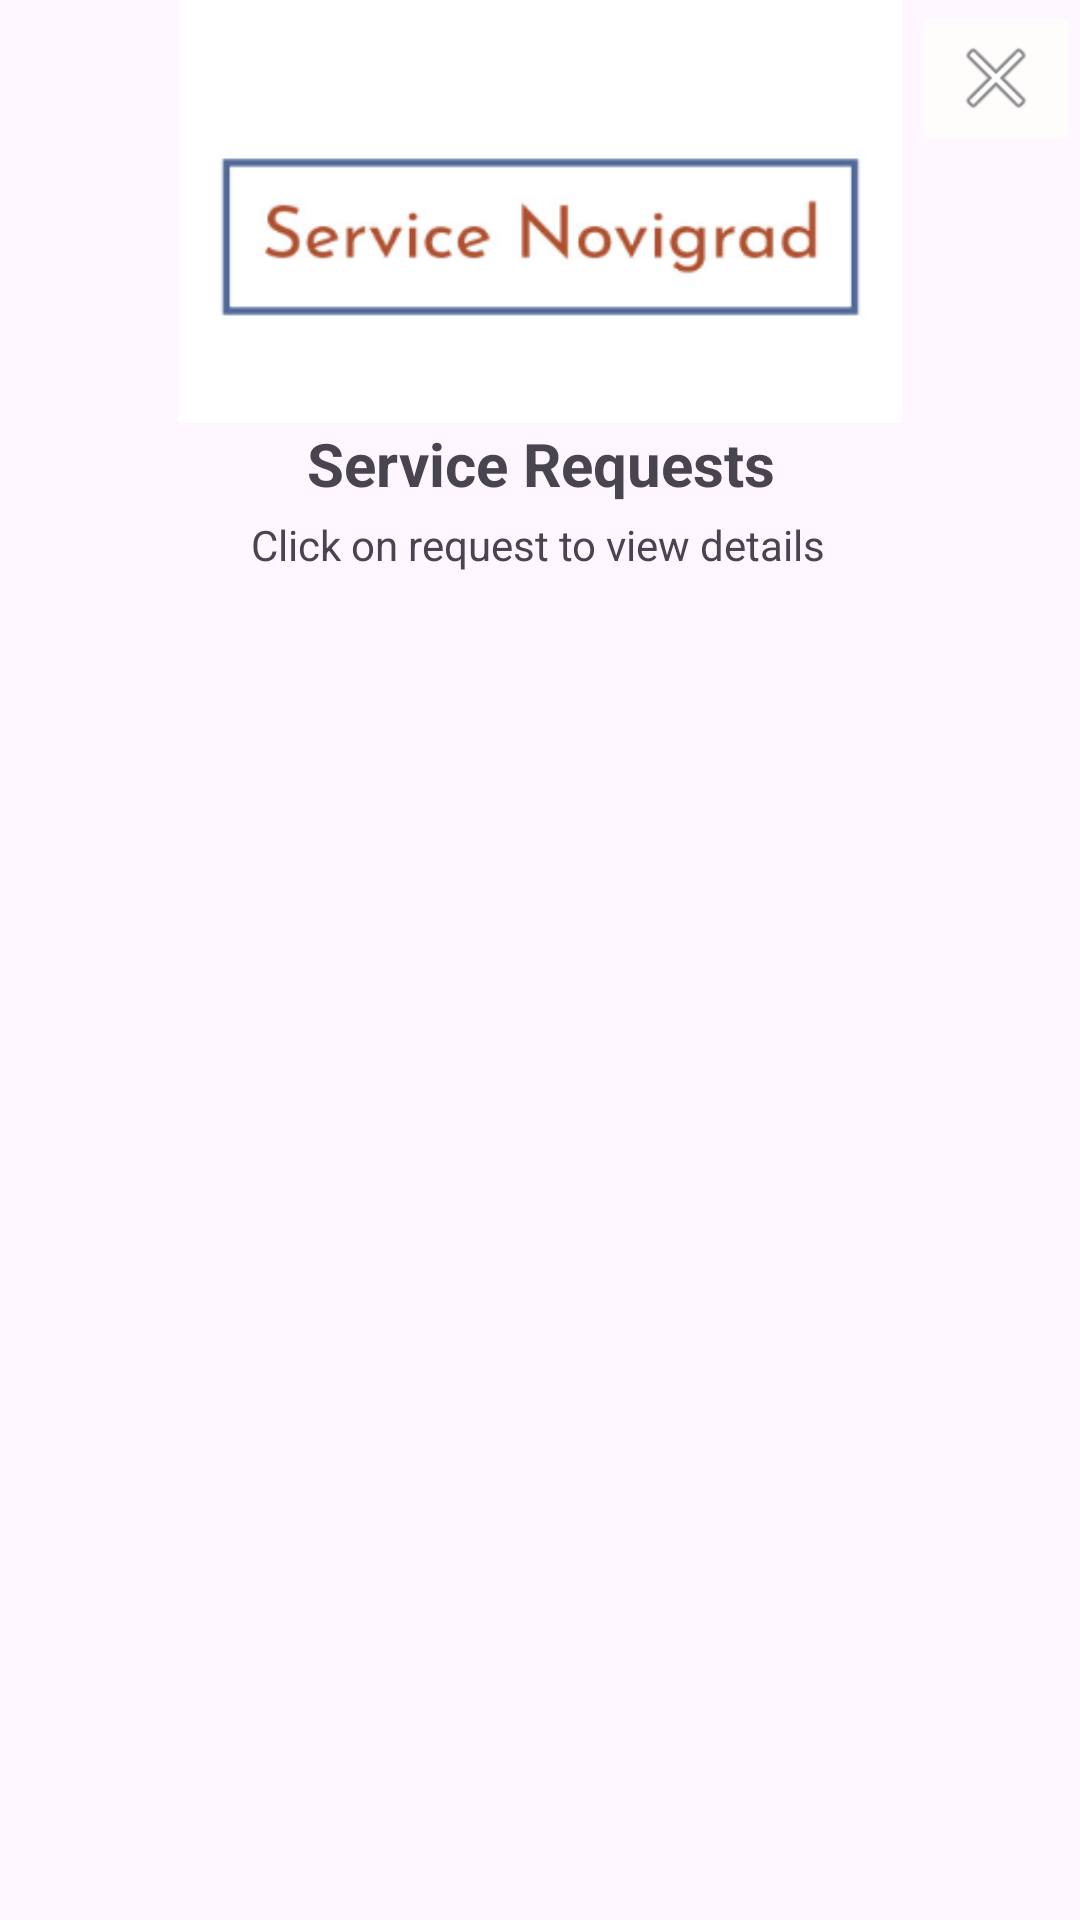

Locate icon controls on the screen. Image size 1080px x 1920px, boxes as [left=x1, top=y1, right=x2, bottom=y2].
close clear cancel: [left=966, top=48, right=1026, bottom=108]
